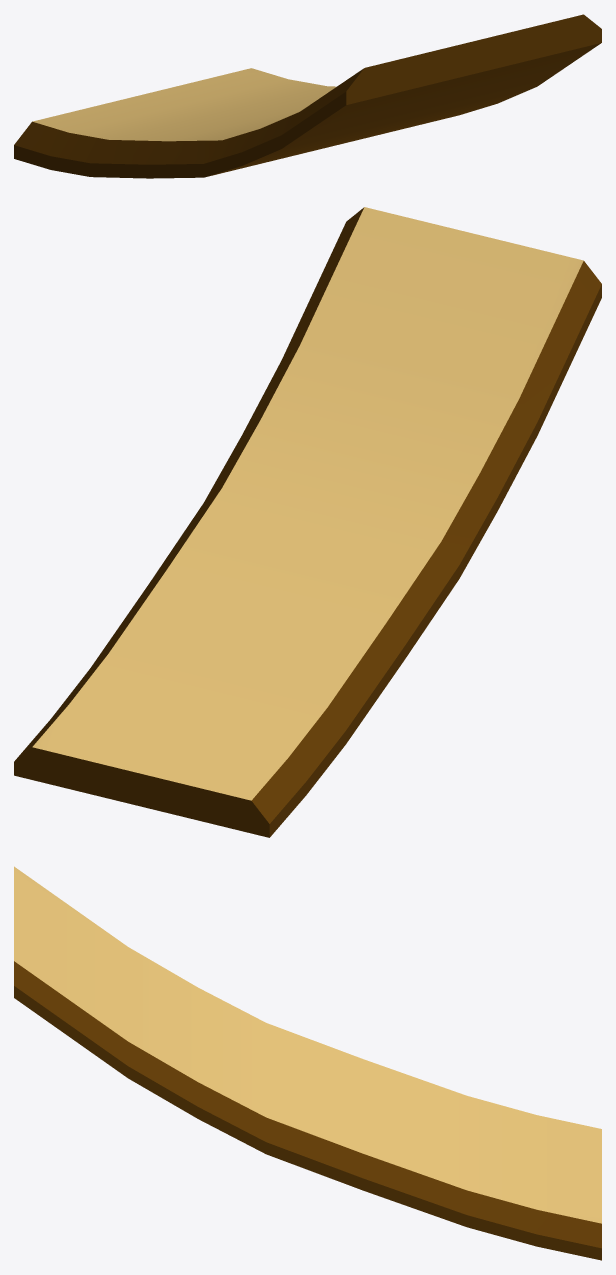
File: level2ramp.FBX
3 renders of one model, top to bottom at view 1: azimuth 30°, elevation 25°; view 2: azimuth 150°, elevation 25°; view 3: azimuth 270°, elevation 25°, orthographic. The views are drawn at different scales.
Parts seen in each view (by area): view 1: ramp; view 2: ramp; view 3: ramp.
Part boxes in pixels (x1=…): ramp: x1=14, y1=14, x2=601, y2=178; ramp: x1=14, y1=207, x2=601, y2=837; ramp: x1=14, y1=866, x2=601, y2=1260.
Bounding box in the file's own units: 208 × 256 × 468.
